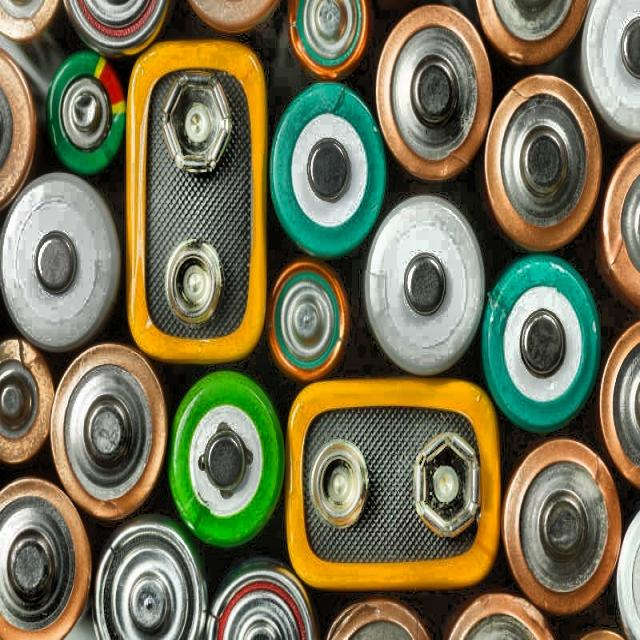Non-Valuable Waste - Batteries: (286, 379, 501, 589), (126, 43, 266, 361), (364, 195, 485, 374), (0, 174, 120, 351), (481, 255, 600, 431), (502, 439, 621, 614), (50, 343, 168, 519), (376, 4, 492, 180), (485, 75, 601, 250), (169, 371, 284, 546), (270, 83, 386, 256), (0, 477, 91, 639), (94, 516, 206, 639), (46, 51, 126, 174), (268, 259, 349, 380), (205, 559, 319, 640), (0, 338, 55, 462), (290, 0, 370, 80), (64, 1, 169, 56), (449, 593, 554, 639), (326, 598, 429, 639)
